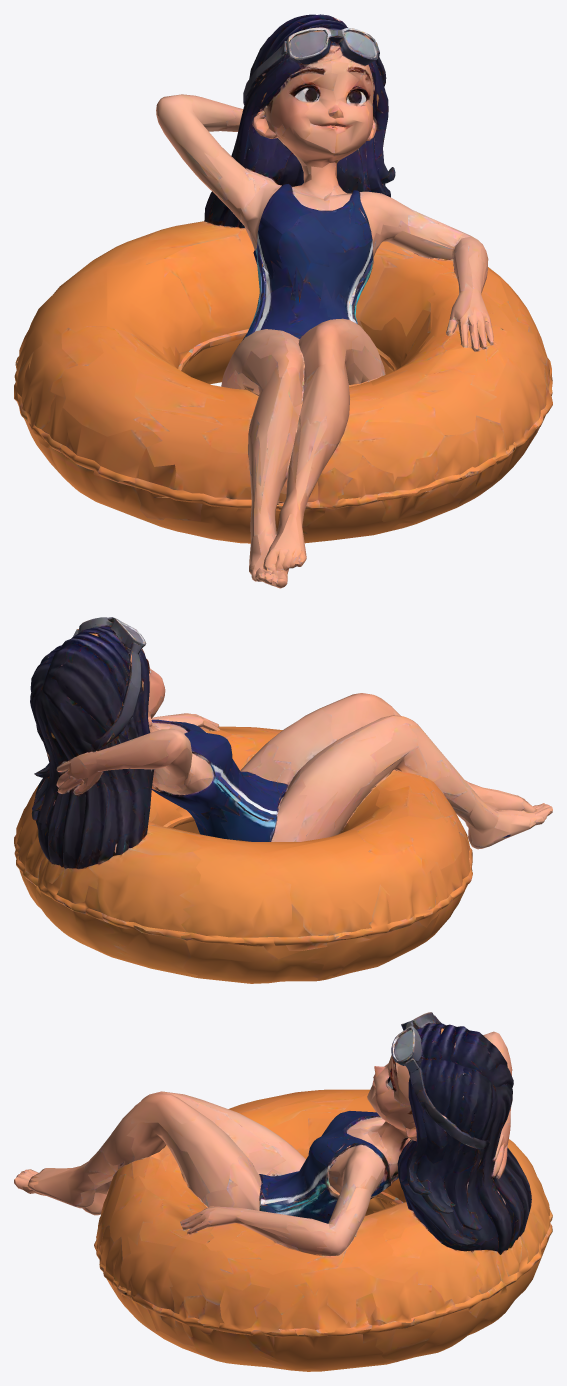
Rendered from annetta-optimized.glb.
The picture shows the model from 3 angles, top to bottom: view 1: azimuth 30°, elevation 25°; view 2: azimuth 150°, elevation 25°; view 3: azimuth 270°, elevation 25°; orthographic projection. The views are drawn at different scales.
Bounding box in the file's own units: 1.69 × 1.25 × 1.9.
1 material, 1 textured.
